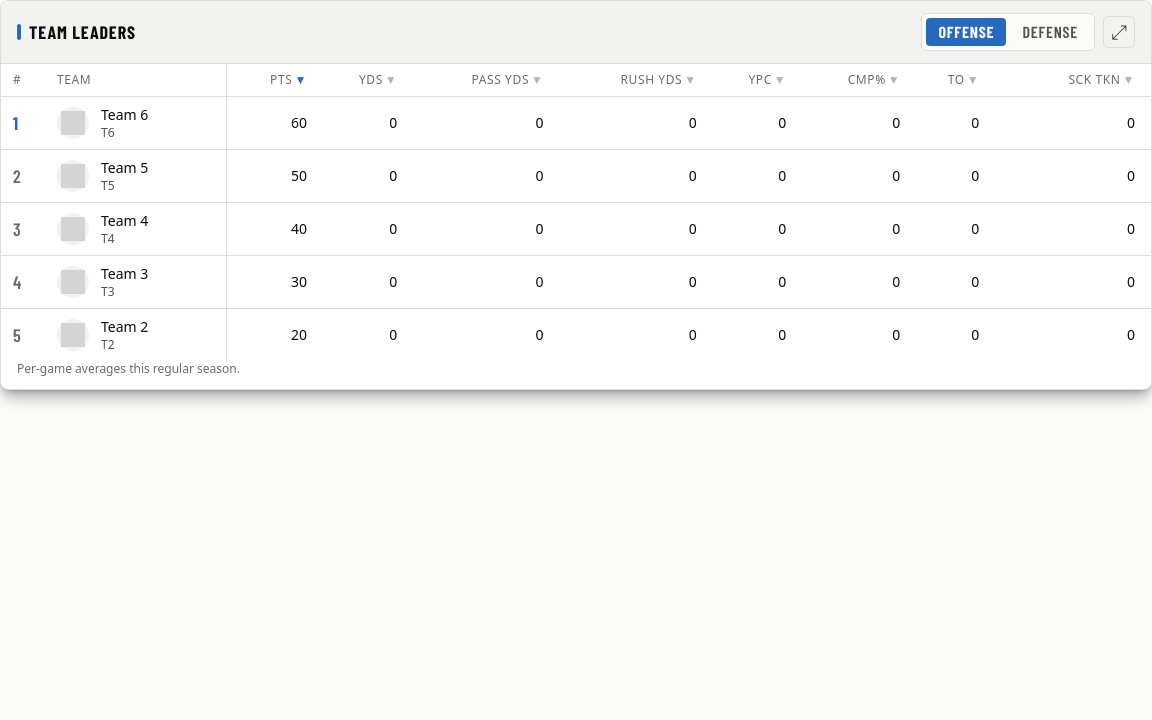
TeamLeadersPanel › names the modal for the side of the ball on show
Click the button "Defense": (1050, 32) left=1010, top=18, right=1090, bottom=46
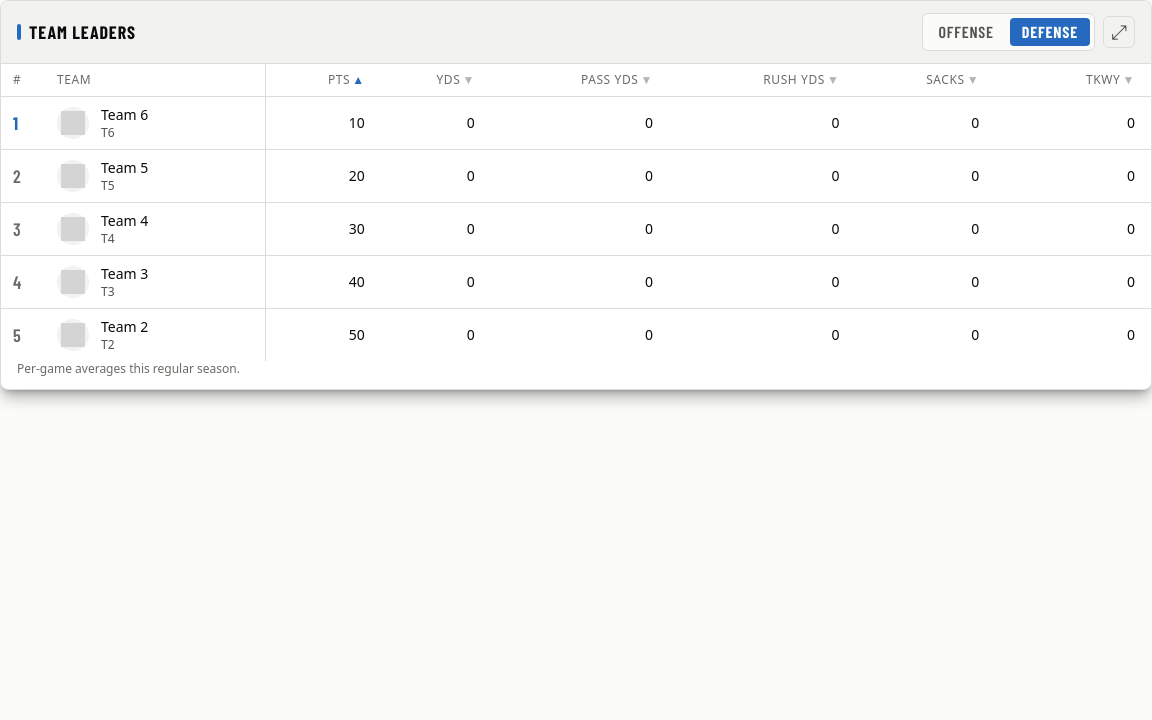
Click the button named "Show all teams": (1119, 32) left=1103, top=16, right=1135, bottom=48
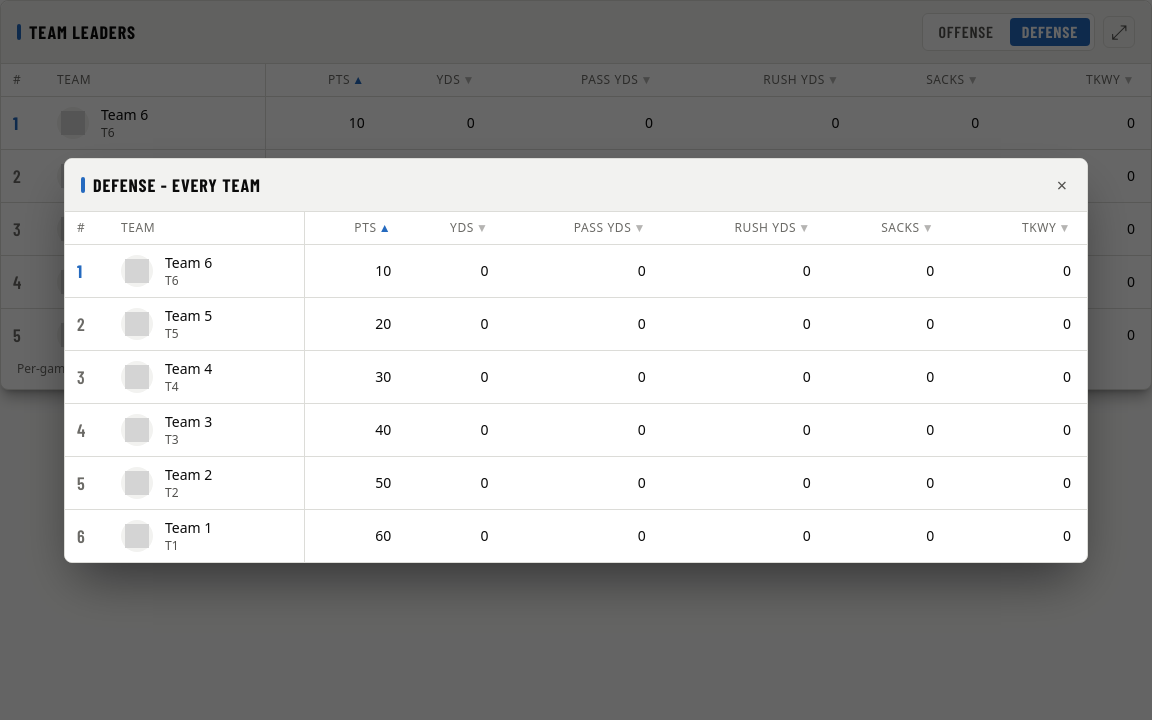
Check: the dialog "Defense - Every Team" is shown, box left=64, top=158, right=1088, bottom=562
